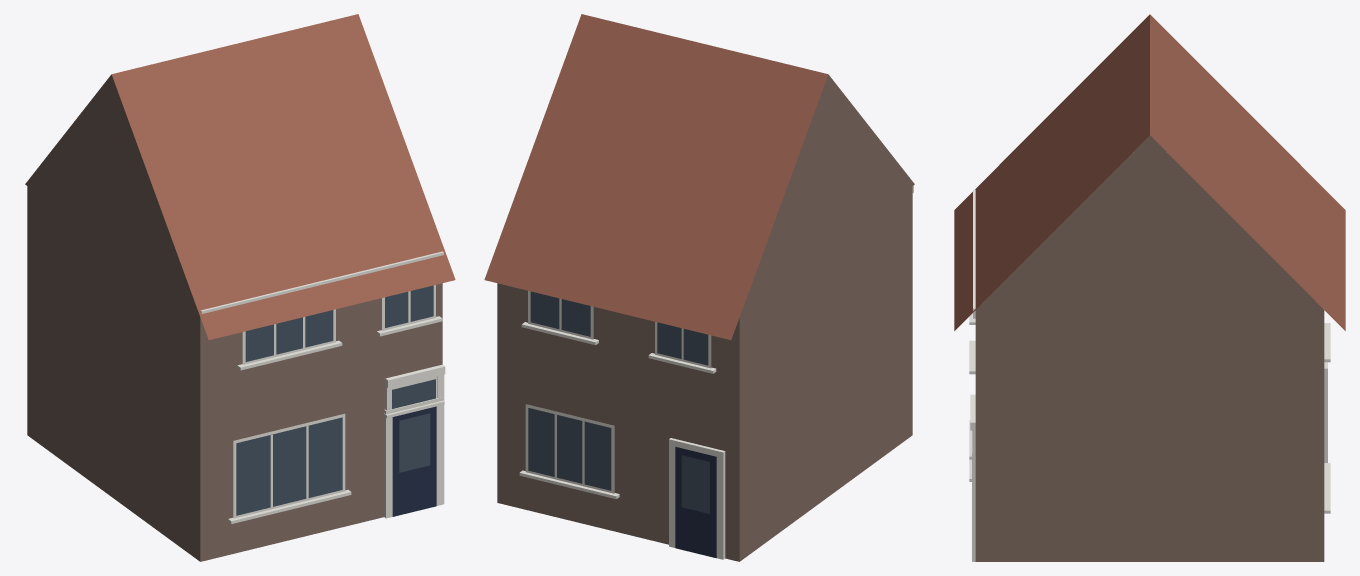
The model's file is nn-row__wide__2__gable__long__solid__mirror.glb.
The picture shows the model from 3 angles, left to right: view 1: azimuth 30°, elevation 25°; view 2: azimuth 150°, elevation 25°; view 3: azimuth 270°, elevation 25°; orthographic projection.
Parts seen in each view (by area): view 1: nn-row__wide__2__gable__long__solid__mirror; view 2: nn-row__wide__2__gable__long__solid__mirror; view 3: nn-row__wide__2__gable__long__solid__mirror.
Boxes of the visible parts, x1,y1,x2,y2 form: nn-row__wide__2__gable__long__solid__mirror: [25, 14, 455, 561]; nn-row__wide__2__gable__long__solid__mirror: [484, 14, 914, 561]; nn-row__wide__2__gable__long__solid__mirror: [954, 14, 1345, 561].
Bounding box in the file's own units: 5.34 × 8.79 × 7.29.
